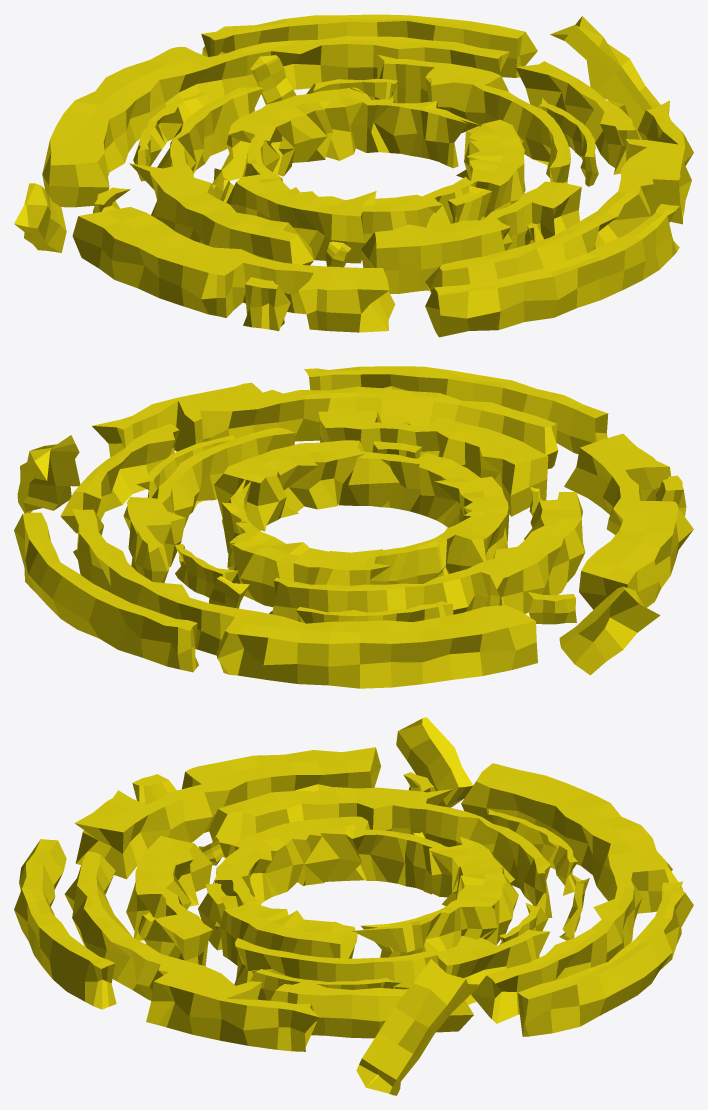
Rendered from laberinto2.fbx.
3 views of the same model, one above another, from view 1: azimuth 30°, elevation 25°; view 2: azimuth 150°, elevation 25°; view 3: azimuth 270°, elevation 25° (orthographic). The views are drawn at different scales.
Visible parts, largest first — view 1: Cylinder.010, Cylinder.017, Cylinder.027; view 2: Cylinder.010, Cylinder.017, Cylinder.027; view 3: Cylinder.010, Cylinder.017, Cylinder.027.
Boxes of the visible parts, bbox=[...] form: Cylinder.010: bbox=[14, 14, 693, 337]; Cylinder.017: bbox=[129, 54, 598, 293]; Cylinder.027: bbox=[212, 87, 525, 263]; Cylinder.010: bbox=[14, 366, 693, 688]; Cylinder.017: bbox=[123, 410, 585, 623]; Cylinder.027: bbox=[214, 440, 509, 606]; Cylinder.010: bbox=[14, 717, 693, 1095]; Cylinder.017: bbox=[126, 787, 589, 1004]; Cylinder.027: bbox=[198, 816, 518, 965].
Size of the model in its own units: 5526 by 890 by 5105.
